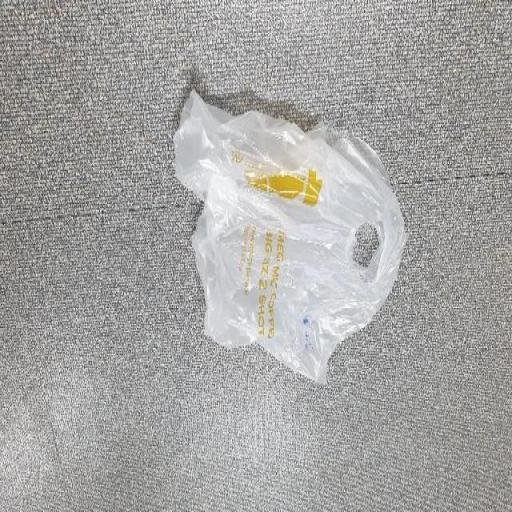plastic-bag: (170, 86, 408, 388)
